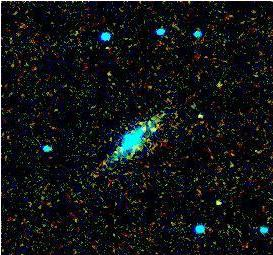star: (141, 111, 171, 141)
